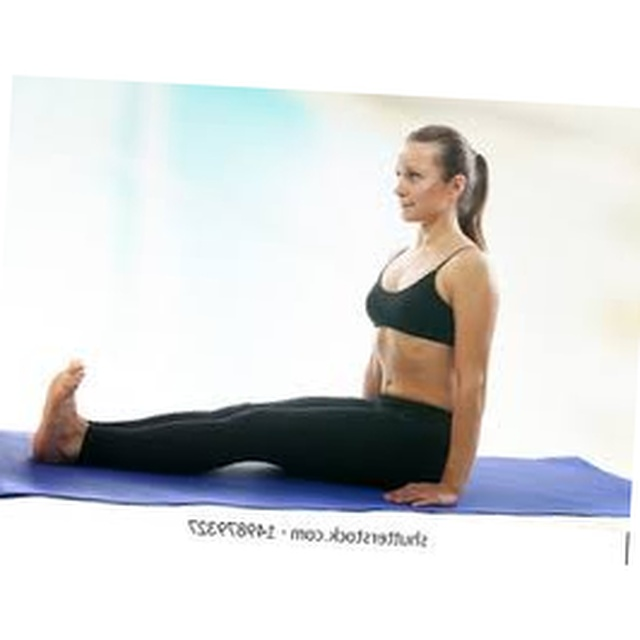Staff_Pose: (31, 124, 501, 508)
